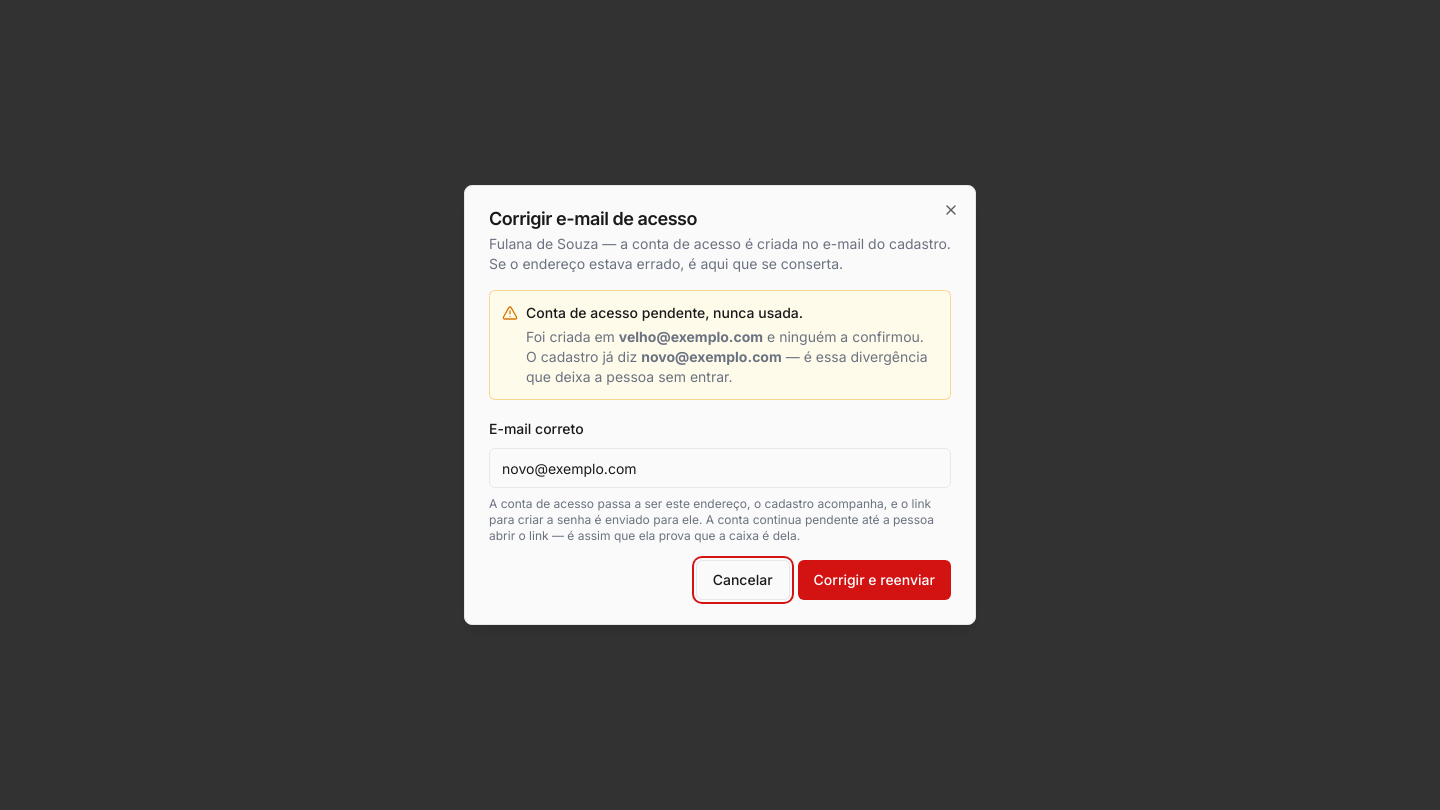
Test: CorrigirEmailAcessoDialog (interação) › depois de corrigir › mostra a mensagem do servidor mesmo quando a EF responde não-2xx
Click the button "Corrigir e reenviar" at [874, 580], box [798,560,951,600]
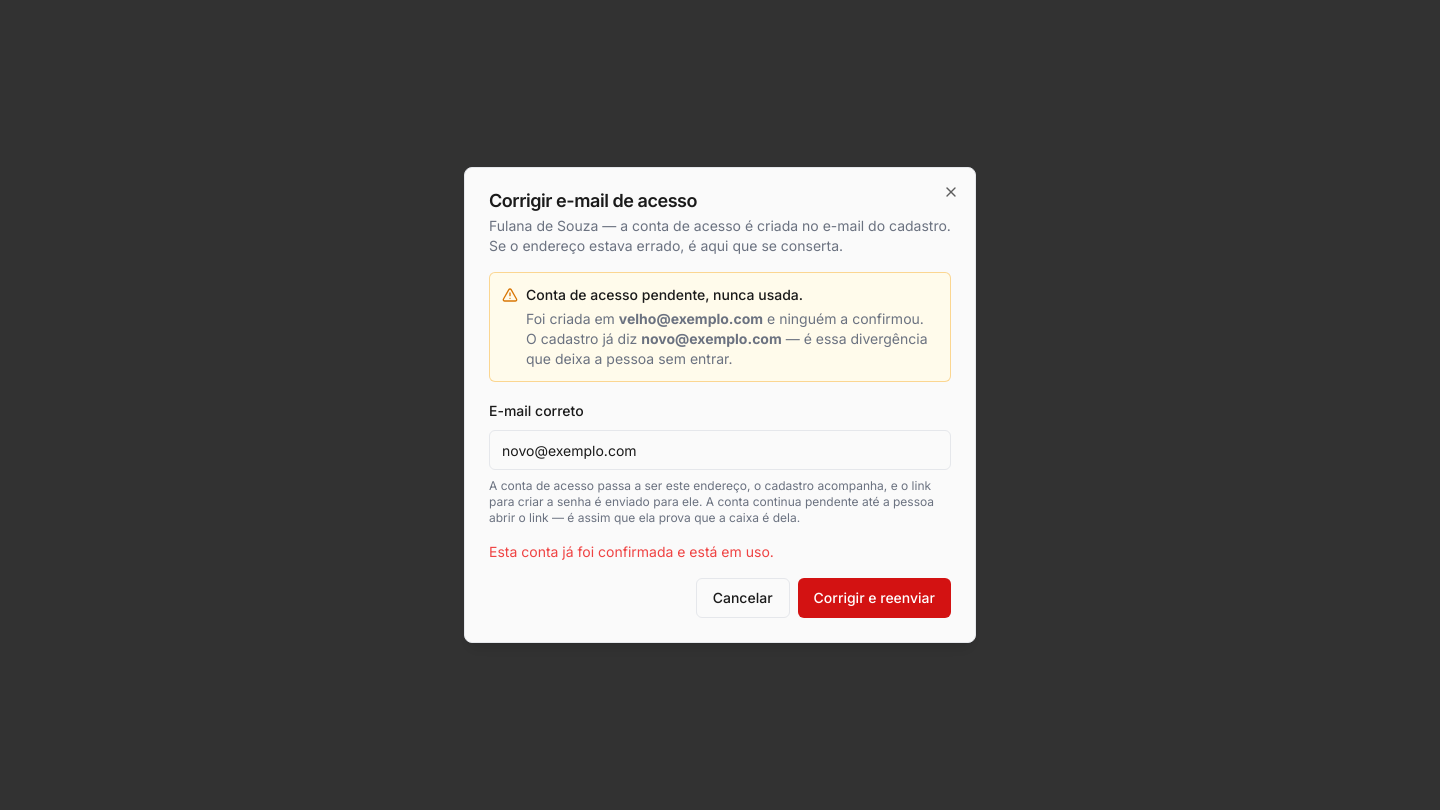
Expected: the text "Esta conta já foi confirmada e está em uso." is shown, [489,543,774,560]
